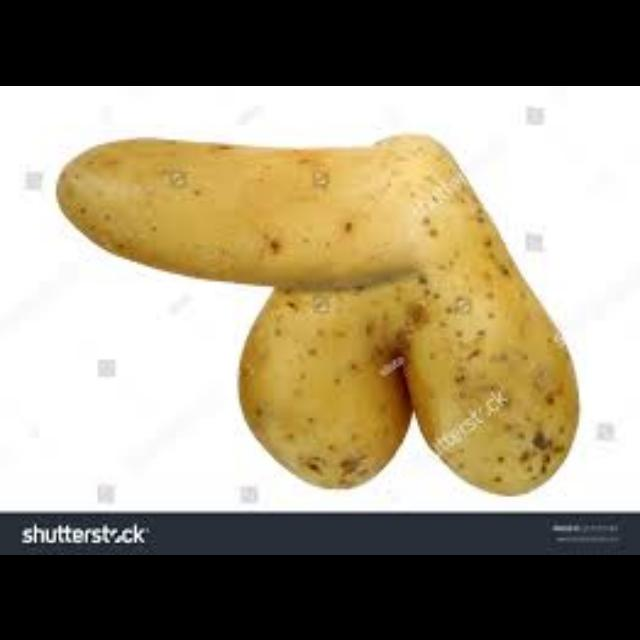Damaged potato: (58, 128, 588, 496)
